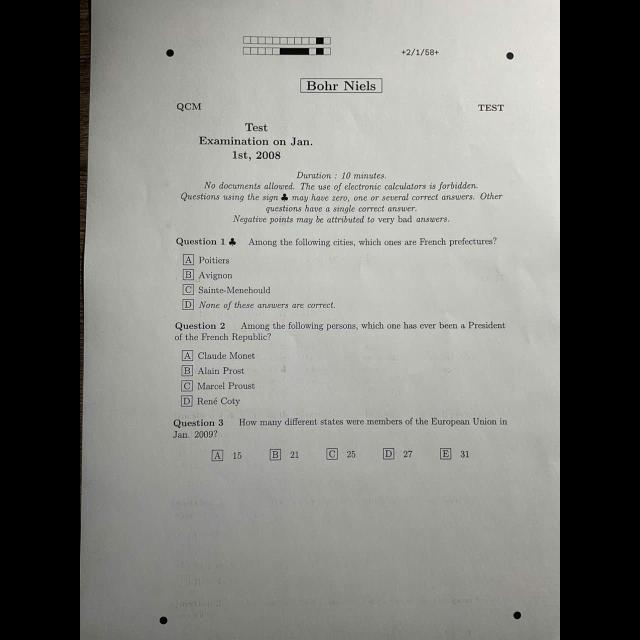Markers: (512, 612, 522, 620), (166, 49, 174, 57), (506, 52, 514, 60), (159, 616, 167, 624)
